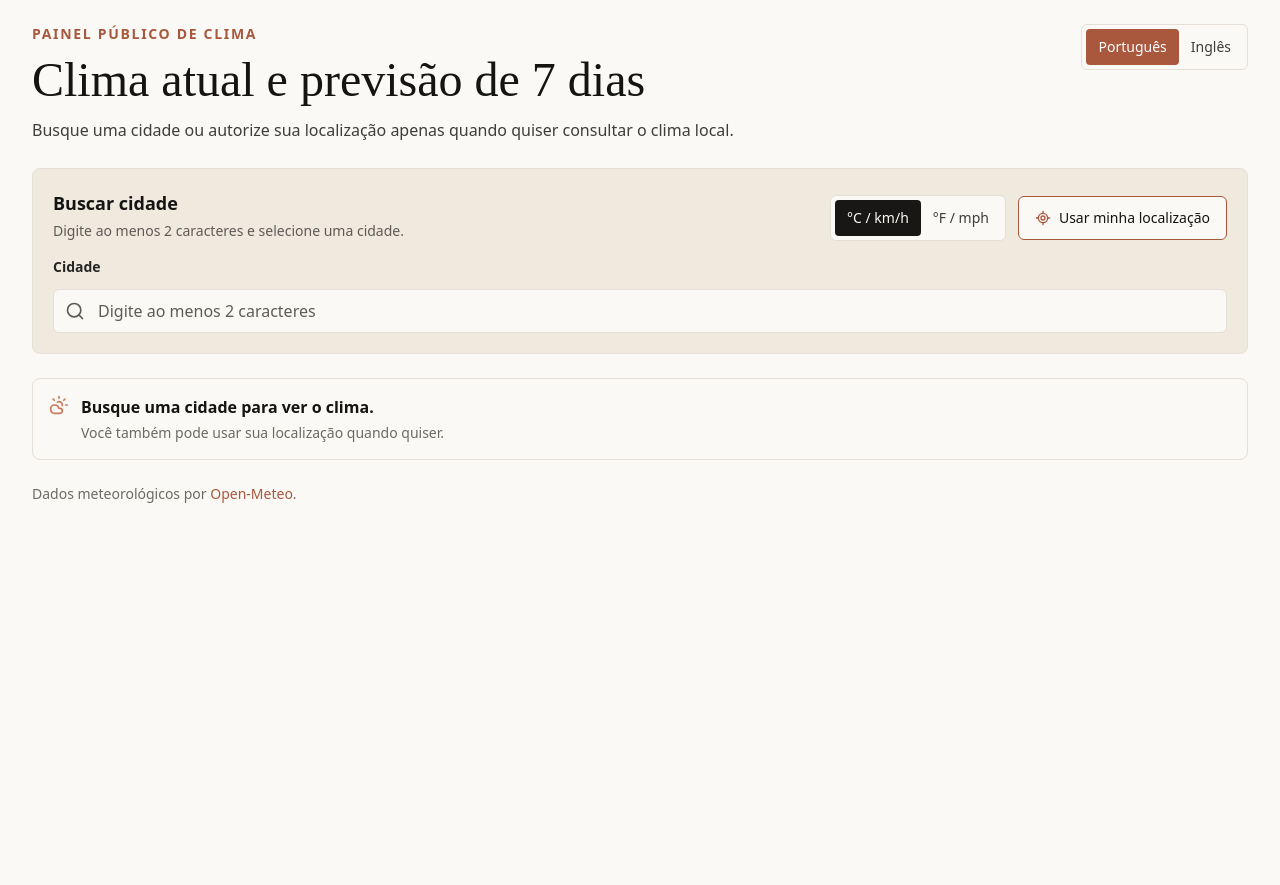
Test: WeatherPage › should translate current location title after switching from Portuguese to English
This screenshot has width=1280, height=885.
Click the button "Usar minha localização". click: (1122, 218)
box: [1018, 196, 1227, 240]
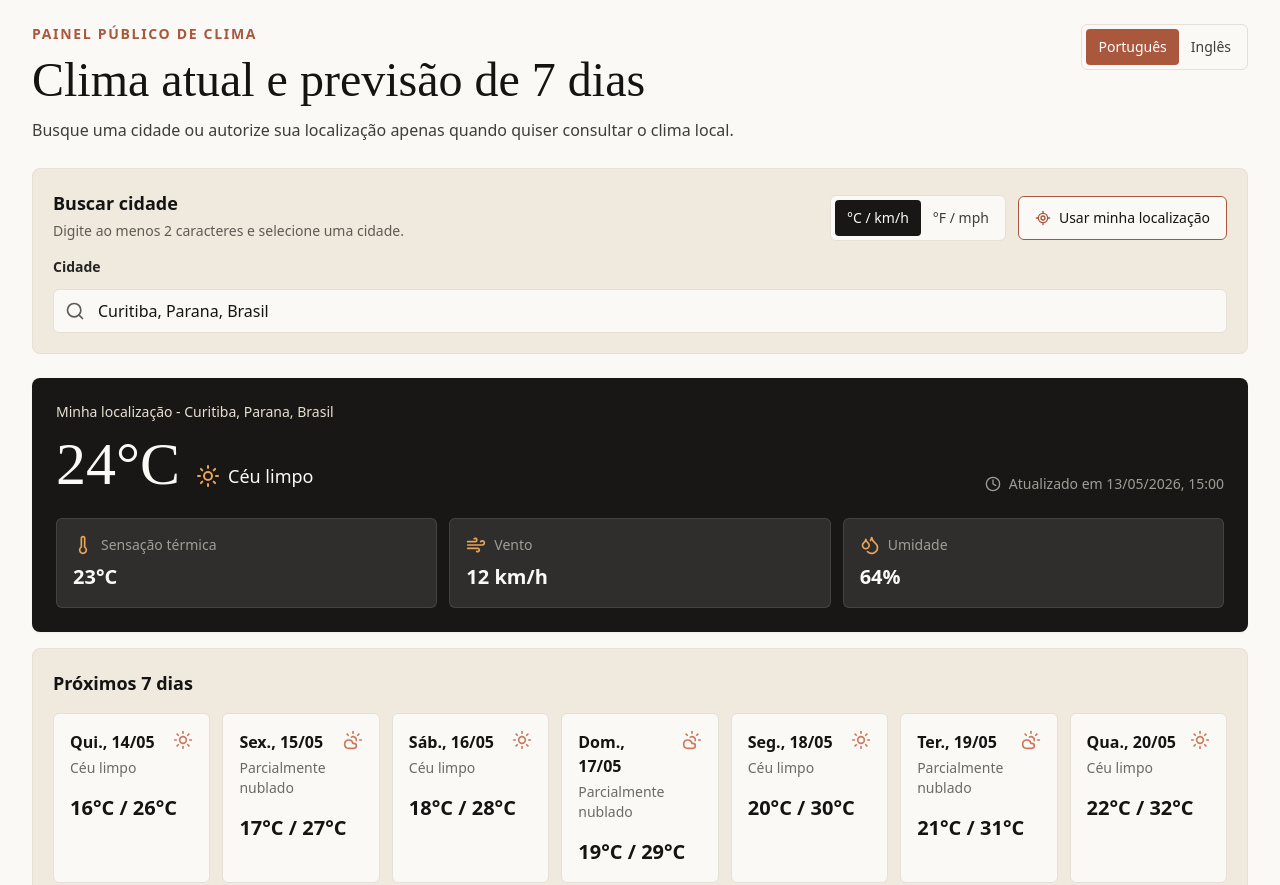
expect the text "Minha localização - Curitiba, Parana, Brasil" is shown: met, box [56, 402, 334, 422]
Click the radio button labelled "Inglês". click: (1211, 47)
box: [1179, 29, 1243, 65]
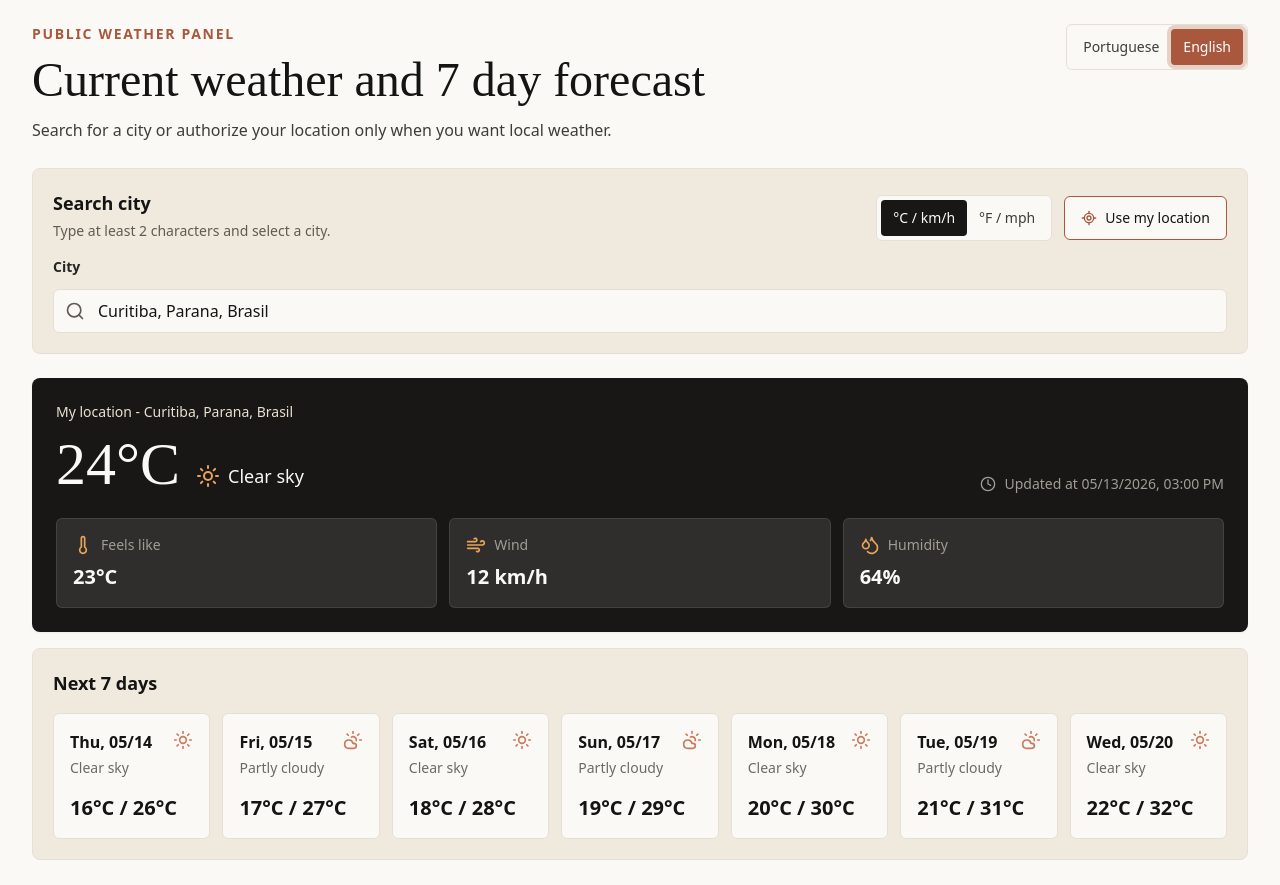
expect the text "My location - Curitiba, Parana, Brasil" is shown: met, box [56, 402, 304, 422]
expect the button "minha localiza" is gone: met
